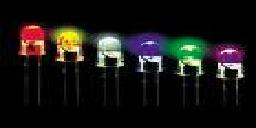LED: (17, 22, 48, 105), (54, 29, 85, 105), (212, 43, 245, 111), (94, 33, 124, 105), (174, 43, 204, 112), (137, 33, 165, 106)
